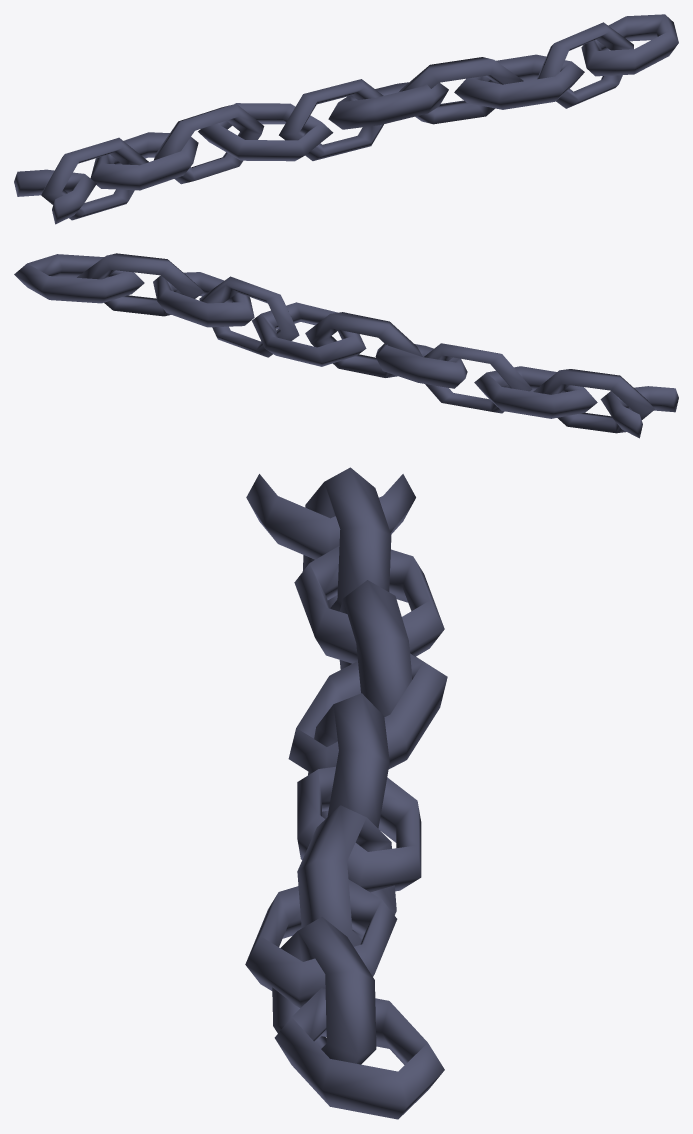
File: Chains.fbx
3 renders of one model, top to bottom at view 1: azimuth 30°, elevation 25°; view 2: azimuth 150°, elevation 25°; view 3: azimuth 270°, elevation 25°, orthographic. The views are drawn at different scales.
Visible parts, largest first — view 1: DungeonChains; view 2: DungeonChains; view 3: DungeonChains.
Part boxes in pixels (box(x1,y1,x2,y2)): DungeonChains: box(14, 14, 678, 224); DungeonChains: box(14, 253, 678, 438); DungeonChains: box(245, 467, 447, 1119).
Size of the model in its own units: 257 by 23.65 by 36.06.
1 material, 1 textured.
